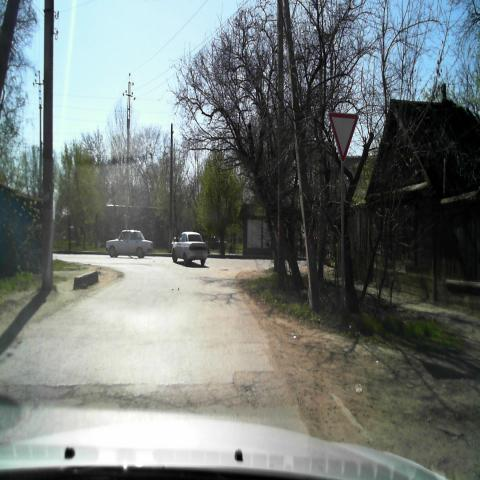2_4: (326, 109, 362, 168)
